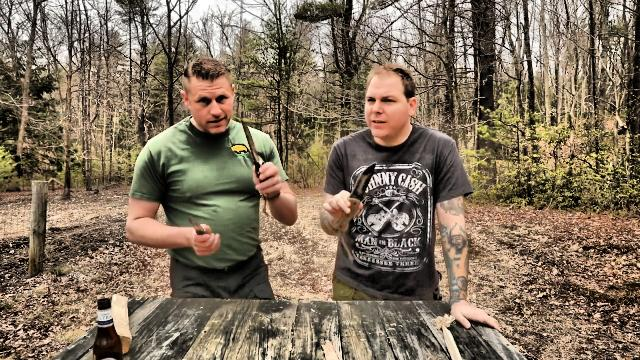knife: (234, 103, 282, 191), (182, 207, 220, 249)
